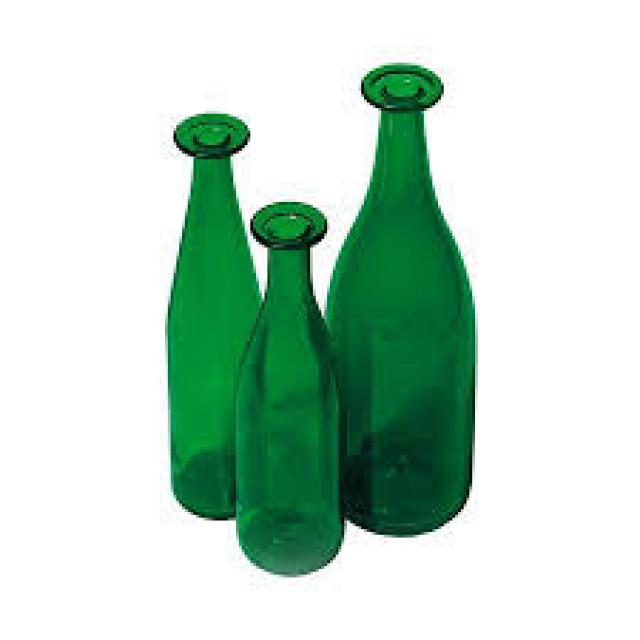Glass: (332, 60, 479, 540), (160, 111, 267, 518), (234, 202, 348, 574)
